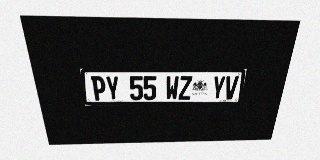5: (129, 76, 143, 100), (143, 76, 156, 100)
P: (91, 76, 107, 101)
V: (223, 76, 239, 99)
W: (165, 76, 179, 100)
Y: (105, 76, 120, 100), (211, 76, 226, 99)
Z: (178, 76, 192, 100)
